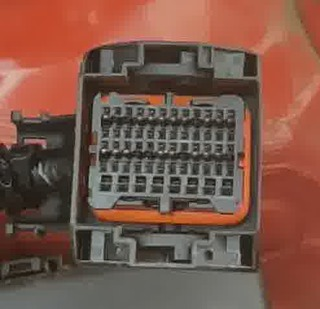connector: (70, 40, 262, 274)
